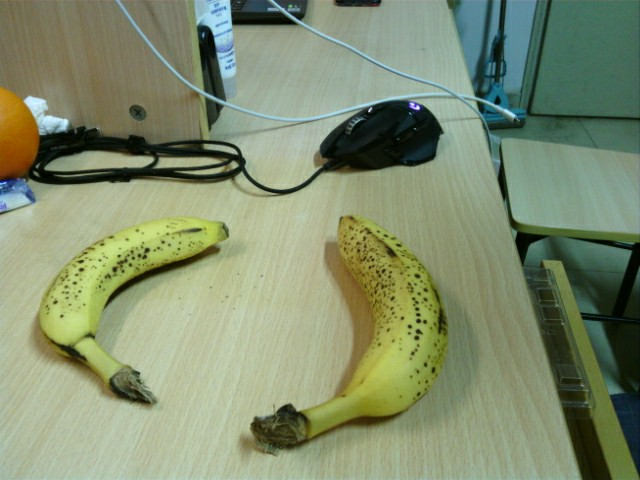normal_banana: (250, 217, 448, 455), (36, 216, 229, 408)
